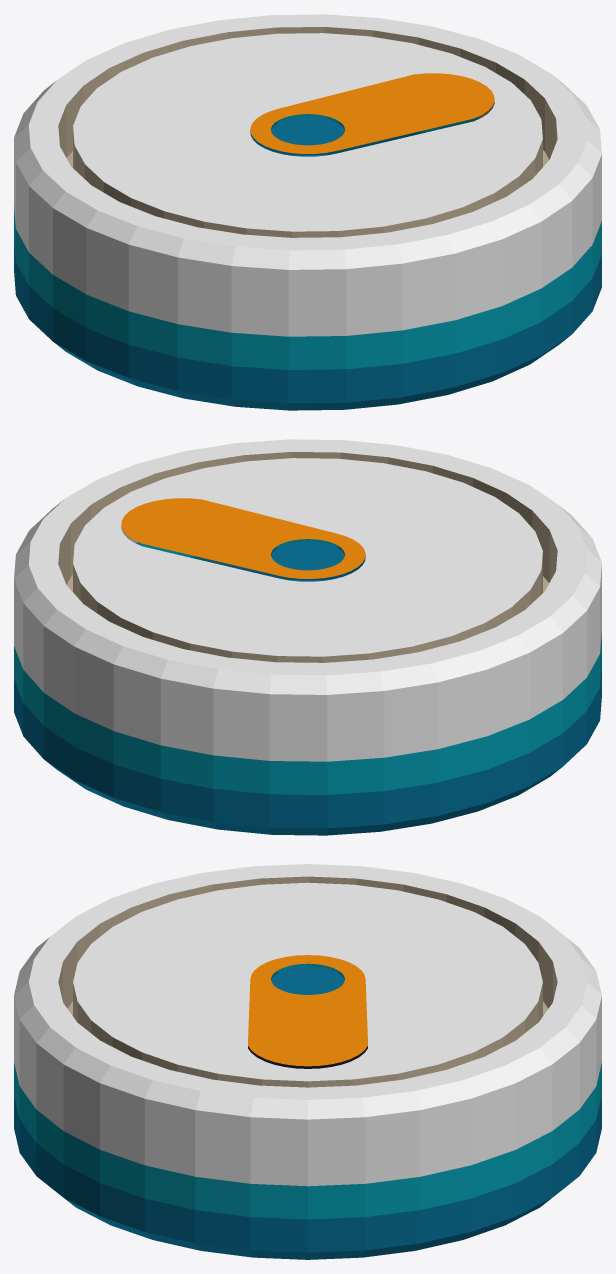
File: G01_033_Cleaner.fbx
The picture shows the model from 3 angles, top to bottom: view 1: azimuth 30°, elevation 25°; view 2: azimuth 150°, elevation 25°; view 3: azimuth 270°, elevation 25°; orthographic projection.
Parts seen in each view (by area): view 1: 柱体.032, 柱体.033; view 2: 柱体.032, 柱体.033; view 3: 柱体.032, 柱体.033.
Part boxes in pixels (x1,y1,x2,y2): 柱体.032: (14, 14, 601, 410); 柱体.033: (250, 73, 494, 153); 柱体.032: (14, 439, 601, 835); 柱体.033: (121, 498, 365, 578); 柱体.032: (14, 864, 601, 1259); 柱体.033: (248, 955, 367, 1066).
Size of the model in its own units: 100 by 30.5 by 100.
